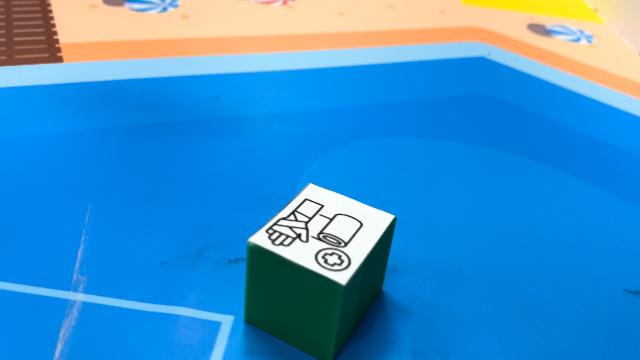bandage: (243, 182, 397, 358)
